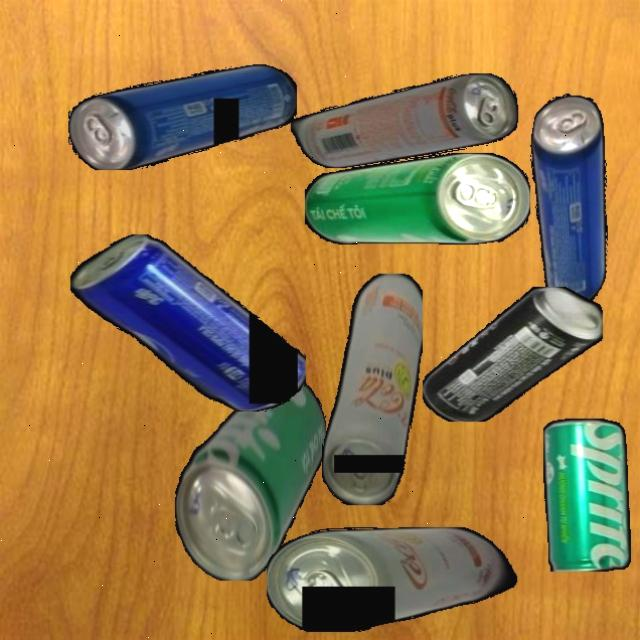debris: (69, 234, 306, 412), (174, 375, 326, 581), (504, 89, 635, 310), (267, 526, 523, 632), (68, 63, 297, 170), (422, 286, 602, 422), (321, 273, 423, 505), (290, 73, 518, 168), (304, 153, 530, 244), (543, 418, 631, 572)
